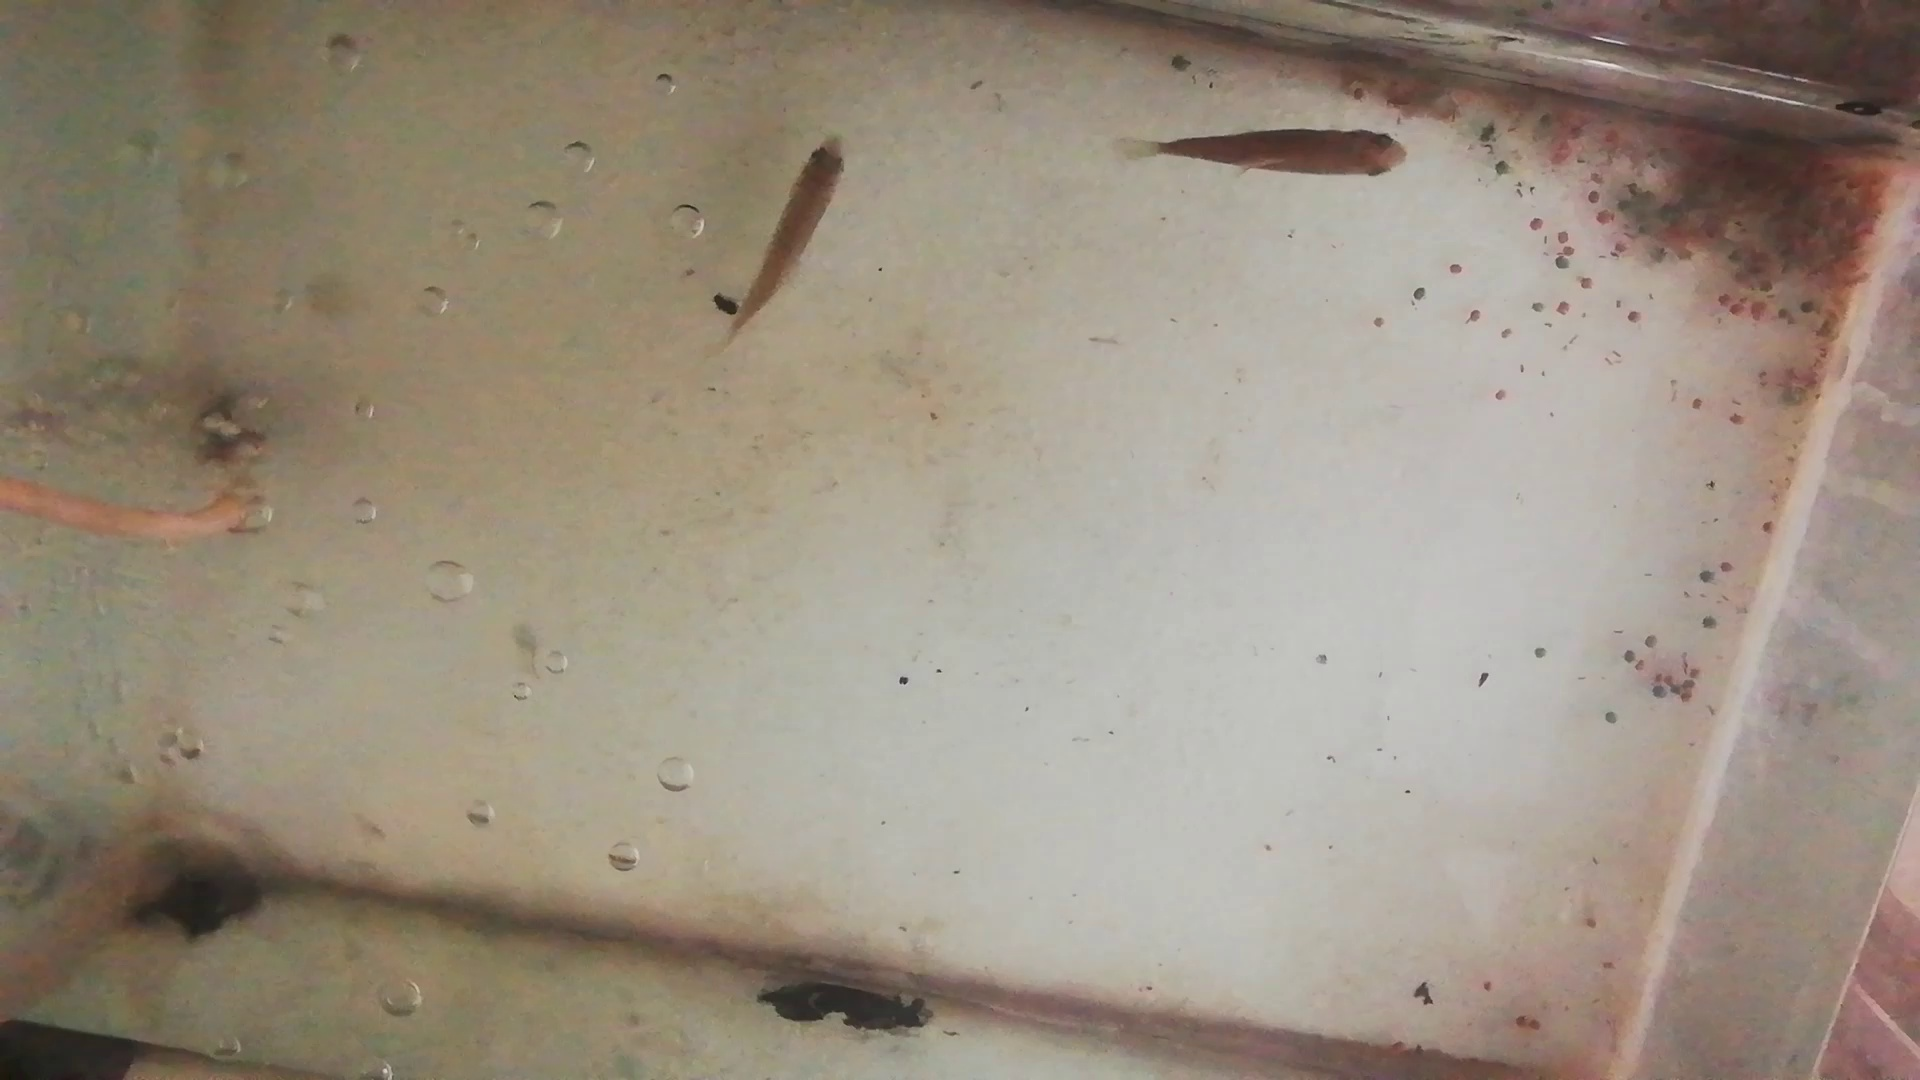fish: (735, 135, 848, 332), (1156, 123, 1408, 193)
